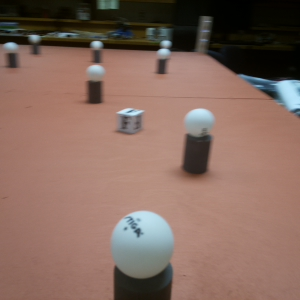obstacle: (110, 209, 176, 300), (181, 104, 213, 179), (86, 64, 105, 105), (4, 42, 21, 69), (156, 46, 170, 76), (29, 34, 43, 57), (91, 40, 105, 61), (159, 39, 173, 55)
